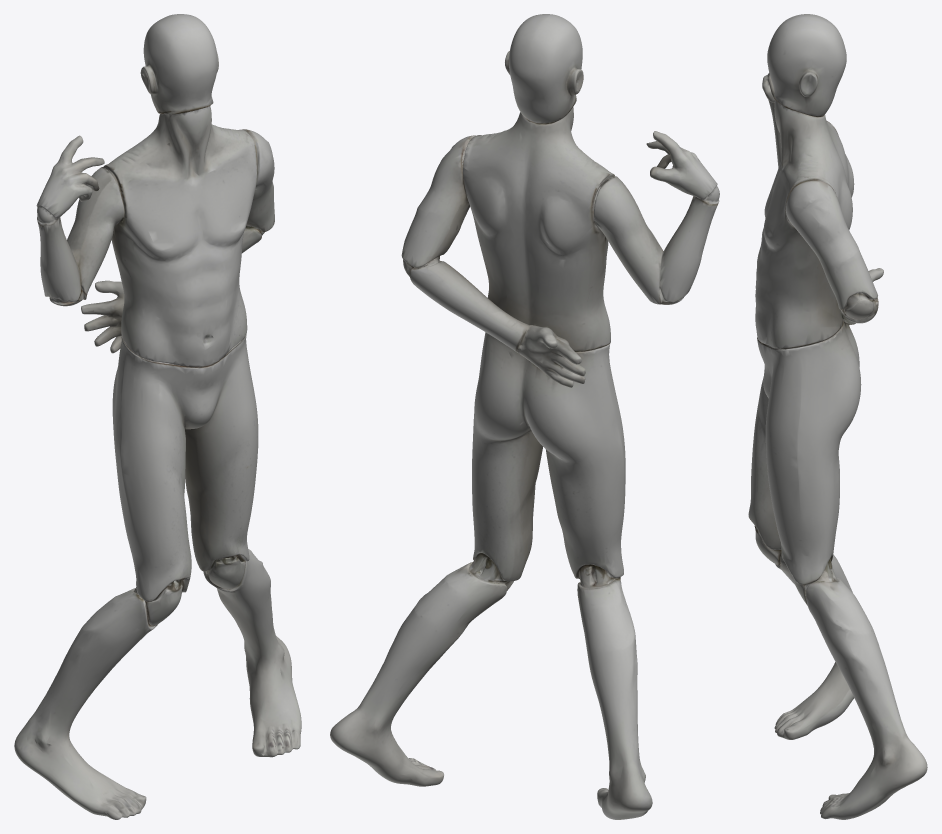
3 renders of one model, left to right at view 1: azimuth 30°, elevation 25°; view 2: azimuth 150°, elevation 25°; view 3: azimuth 270°, elevation 25°, orthographic. The views are drawn at different scales.
Visible parts, largest first — view 1: node_0; view 2: node_0; view 3: node_0.
Part boxes in pixels (<box>): node_0: <box>14,14,301,819</box>; node_0: <box>330,14,719,819</box>; node_0: <box>748,14,927,819</box>.
Size of the model in its own units: 0.4888 by 1.14 by 0.249.
Materials: 1 (1 with a texture image).
